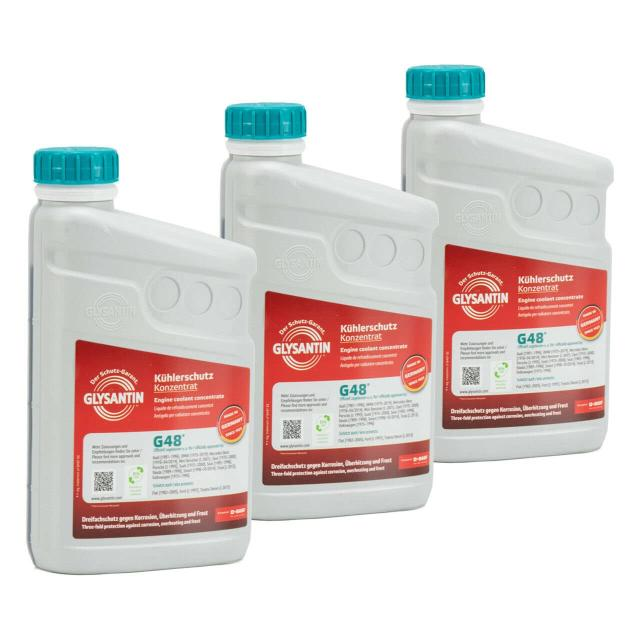coolant: (28, 144, 222, 572), (410, 66, 613, 462), (225, 116, 412, 518)
